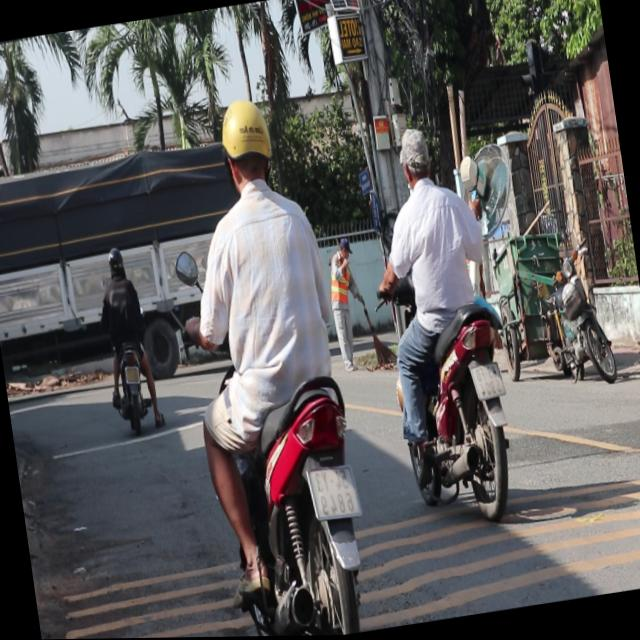helmet: (215, 94, 280, 194)
licenseplate: (151, 87, 384, 638), (358, 117, 528, 530)
motorcyclist: (396, 125, 438, 194)
nohelmet: (310, 463, 360, 518), (472, 361, 507, 401)
